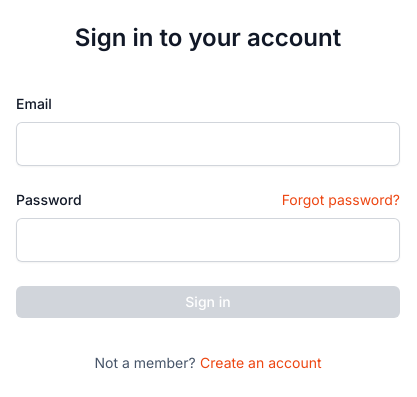
Test: Log in  page scenarios › Should not login when password is  blank
The width and height of the screenshot is (417, 397).
Type "test@yopmail.com" into the field with test id "email".
click(208, 144); type("test@yopmail.com")  # box [16,122,400,166]
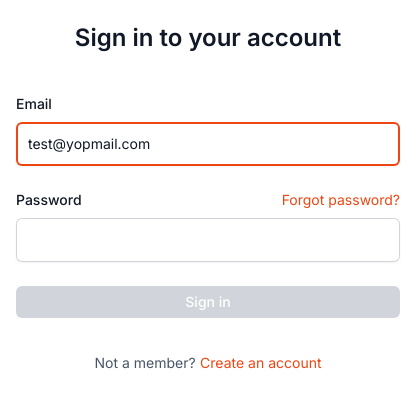
Click the password field with test id "password".
click(208, 240)  # box [16,218,400,262]
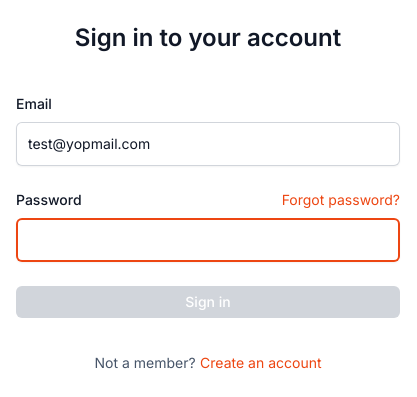
Click the field with test id "email".
click(208, 144)  # box [16,122,400,166]
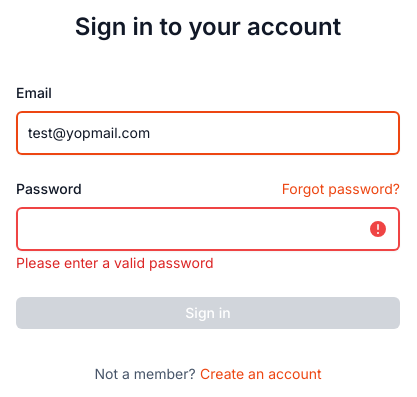
Now the text "Please enter a valid password" is shown, box [16,254,214,271]
